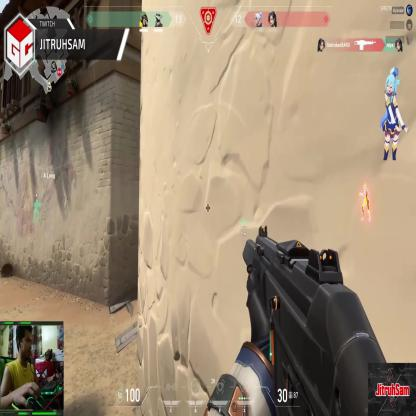enemy: (359, 183, 370, 222)
enemy_head: (363, 184, 366, 191)
